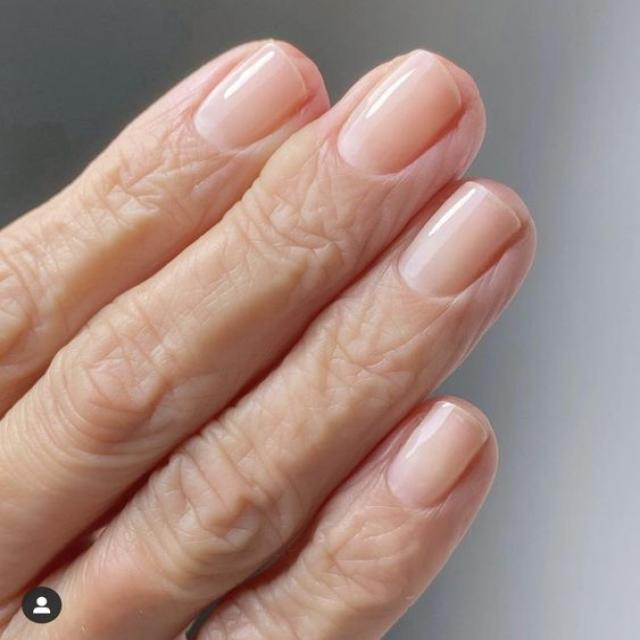Fingernail: (337, 49, 463, 174), (400, 180, 521, 299), (193, 39, 308, 151), (387, 402, 488, 508)
